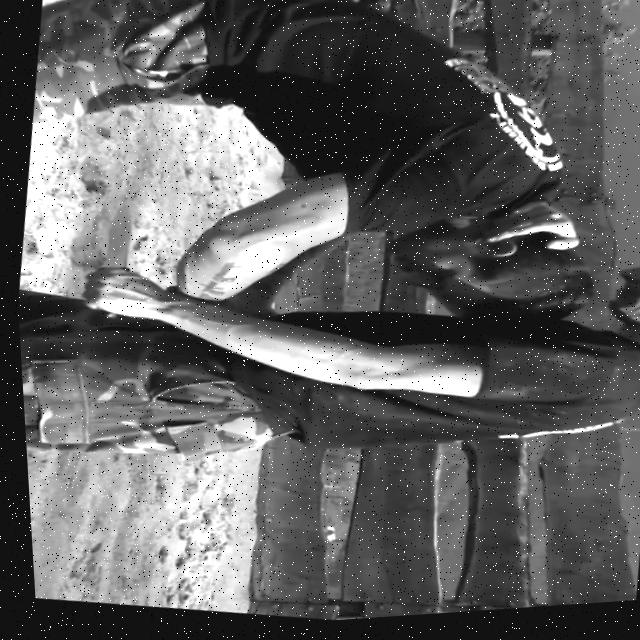knife: (88, 202, 140, 273)
